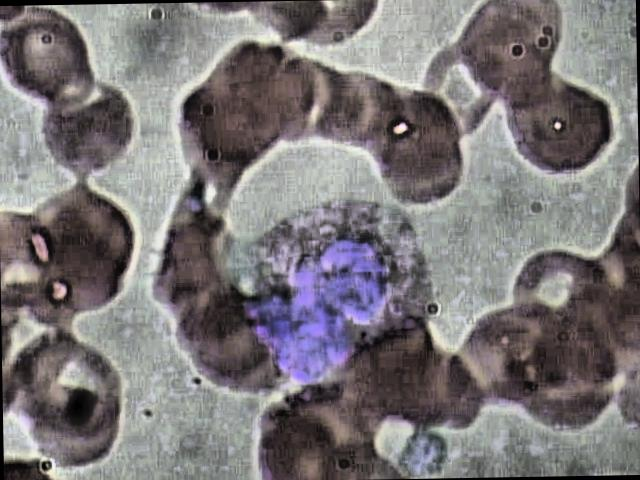RBC: (2, 331, 128, 442), (498, 243, 624, 353), (447, 304, 573, 414), (498, 338, 624, 448), (503, 73, 622, 178), (406, 40, 520, 148), (460, 0, 573, 105), (36, 81, 144, 185), (26, 374, 134, 478), (0, 10, 104, 114), (299, 54, 392, 166), (378, 103, 471, 214), (334, 64, 426, 175), (356, 78, 448, 188), (251, 408, 374, 480), (296, 0, 383, 53), (254, 0, 338, 47)
WBC: (252, 193, 450, 389)
